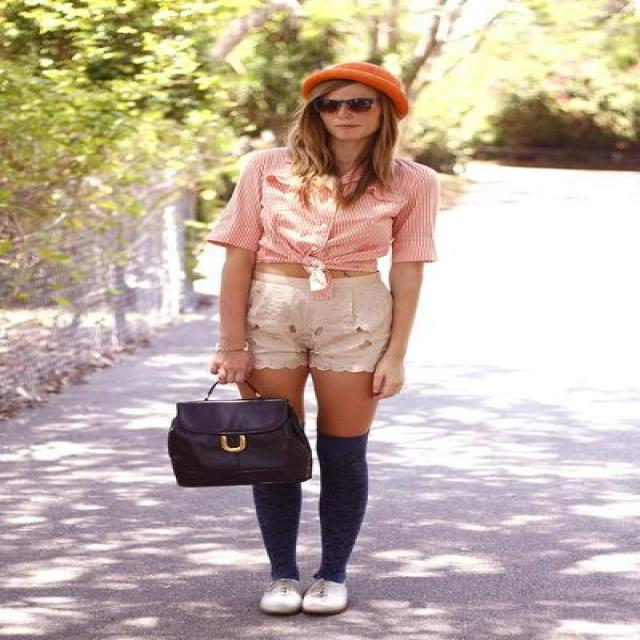bag: (168, 393, 310, 494)
hat: (299, 35, 429, 110)
shirt: (202, 118, 434, 283)
shoe: (260, 557, 346, 609)
shorts: (248, 269, 389, 371)
